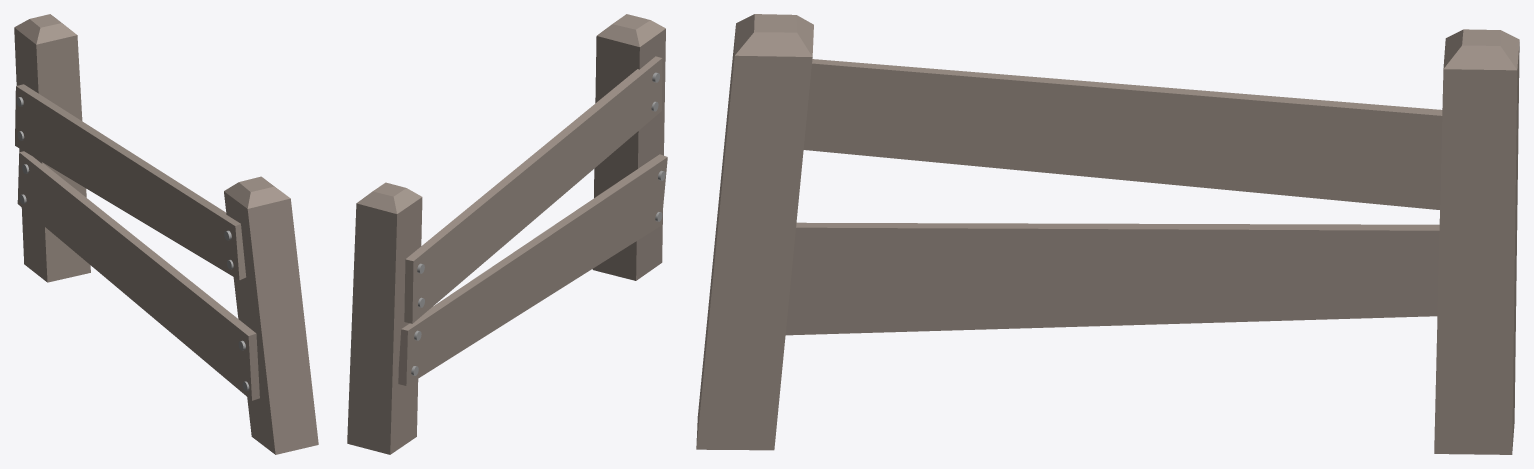
Rendered from Mystic_Fence_3.fbx.
3 views of the same model, side by side, from view 1: azimuth 30°, elevation 25°; view 2: azimuth 150°, elevation 25°; view 3: azimuth 270°, elevation 25° (orthographic). The views are drawn at different scales.
Parts seen in each view (by area): view 1: Fence3; view 2: Fence3; view 3: Fence3.
Part boxes in pixels (x1=…): Fence3: x1=14, y1=14, x2=318, y2=454; Fence3: x1=347, y1=14, x2=667, y2=454; Fence3: x1=696, y1=14, x2=1519, y2=454.
Size of the model in its own units: 37.03 by 124 by 232.
